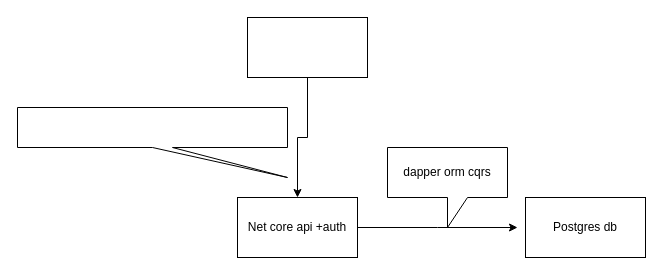
This 663x275 diagram has some shape labels left out. The shapes that lost their labels are listed below. From the top down, each one's centre as x and y in pixels, then its label:
At point (307, 47): "React frontend".
At point (152, 142): "rest api + axios".
